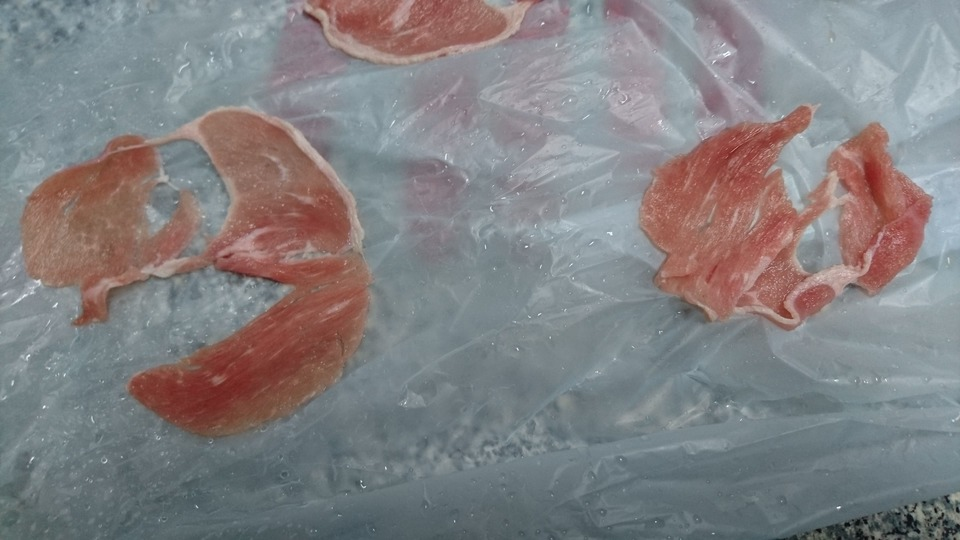restructured meat: (23, 106, 375, 436), (632, 93, 933, 325)
